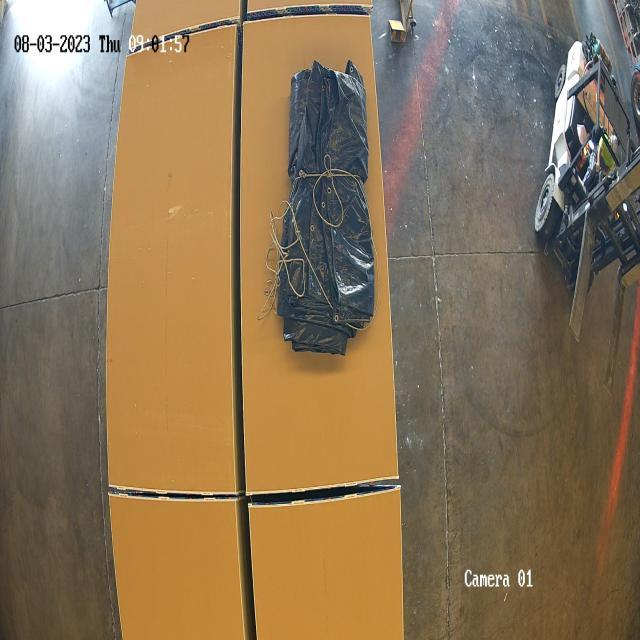driver: (595, 132, 617, 177)
forklift: (531, 28, 640, 348)
